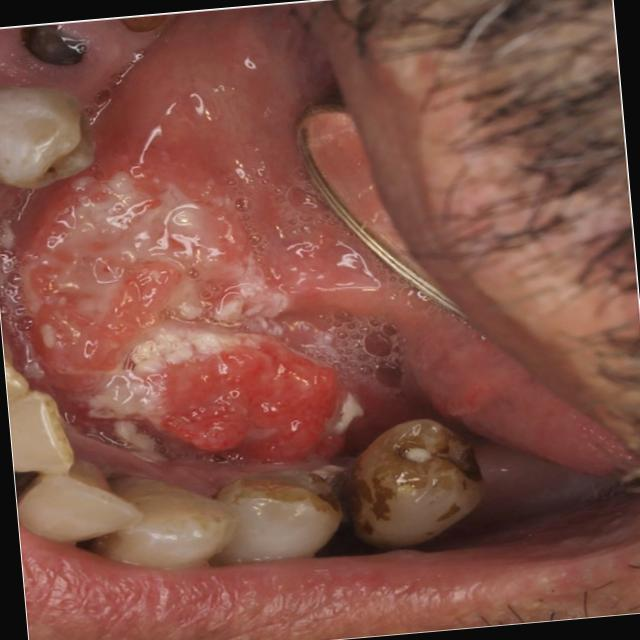Cancer: (18, 142, 264, 322), (115, 316, 364, 482)
